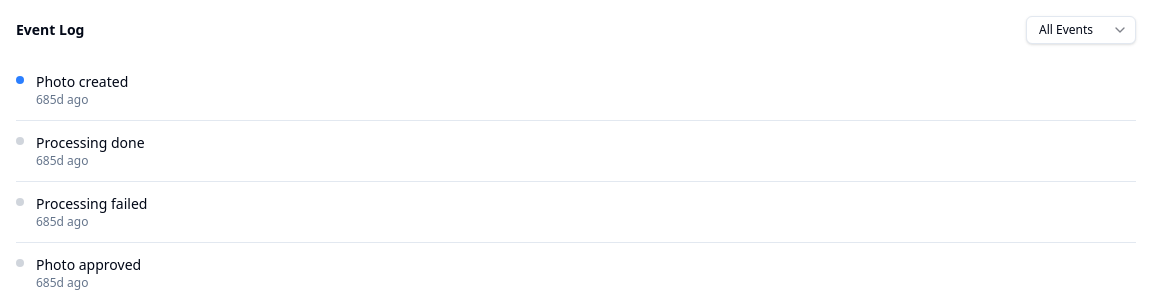
EventLogPanel › filtering › should filter to errors only
Select "Errors Only" in the dropdown: (1081, 30) [1026,16,1136,44]
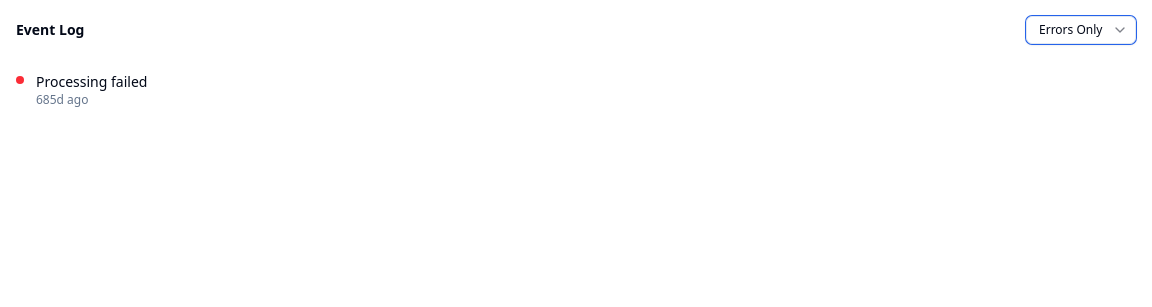
Expected: the text "Processing failed" is shown, [36,72,147,91]
Expected: the text "Photo created" is gone
